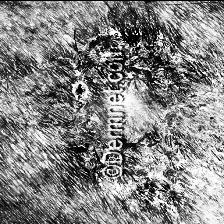Potentially Malignant Skin Tumors: (131, 27, 171, 181), (61, 56, 100, 170)
